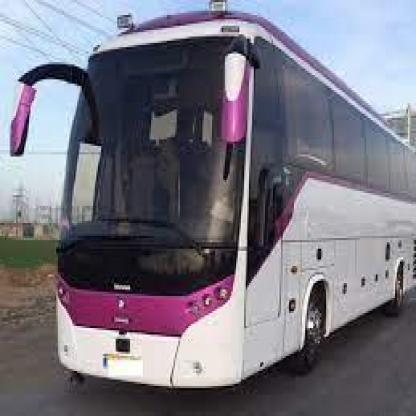Bus: (24, 0, 416, 407)
